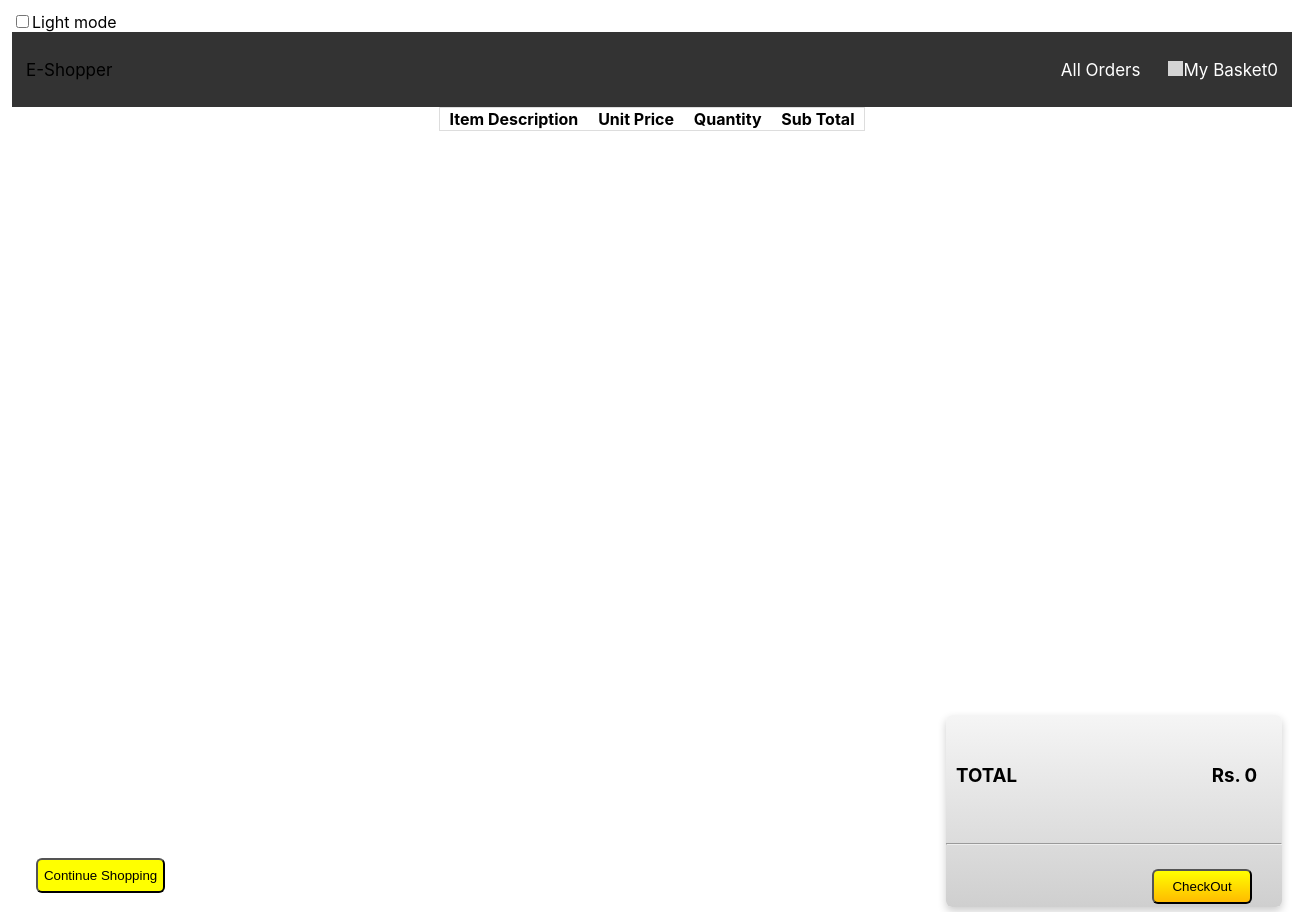
it: App › should render the home component and route to home page
Click the link "E-Shopper".
click(69, 70)  # box [26,60,112,80]
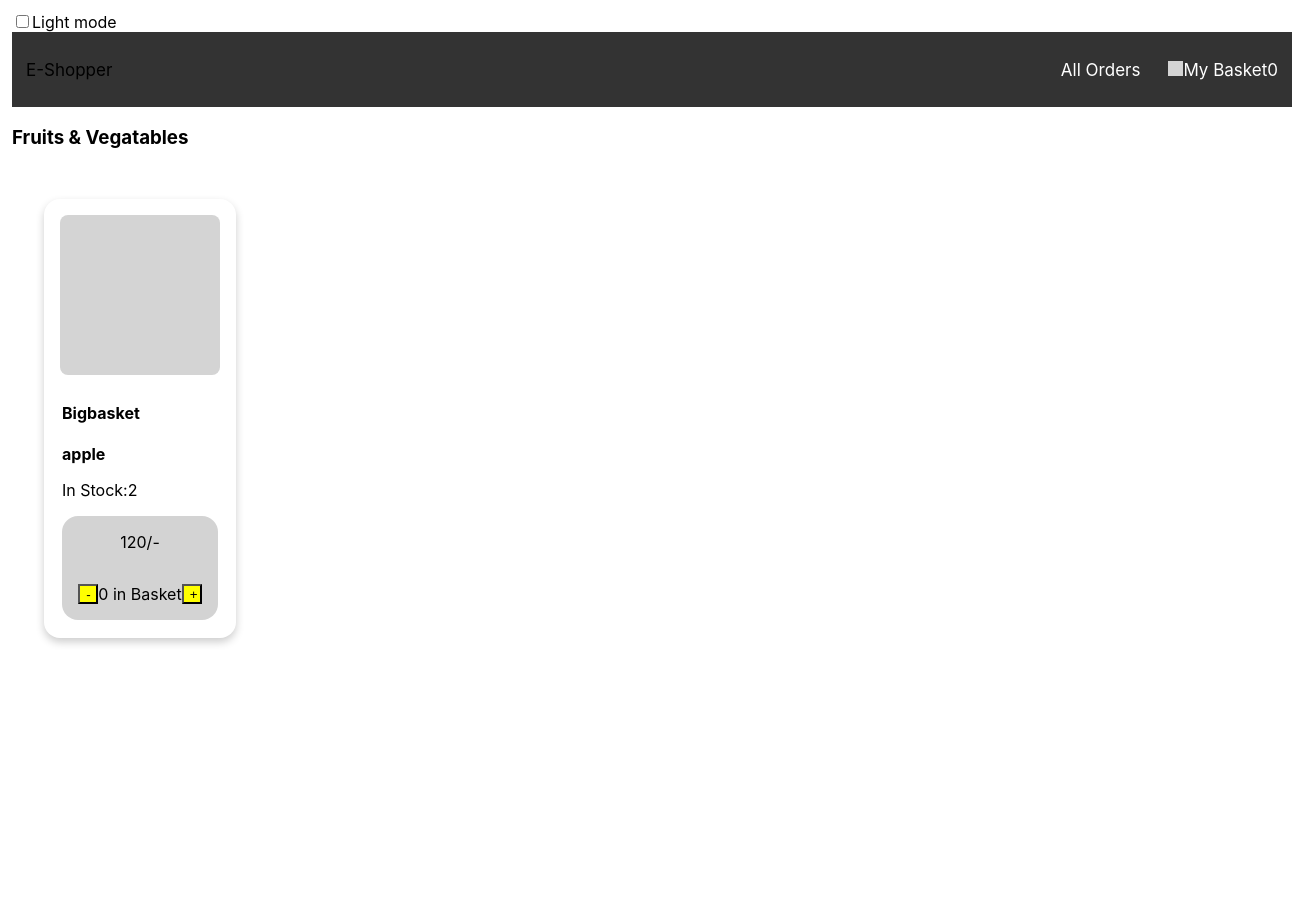
Expected: the element with test id "home-page" is shown, [12,126,236,638]
